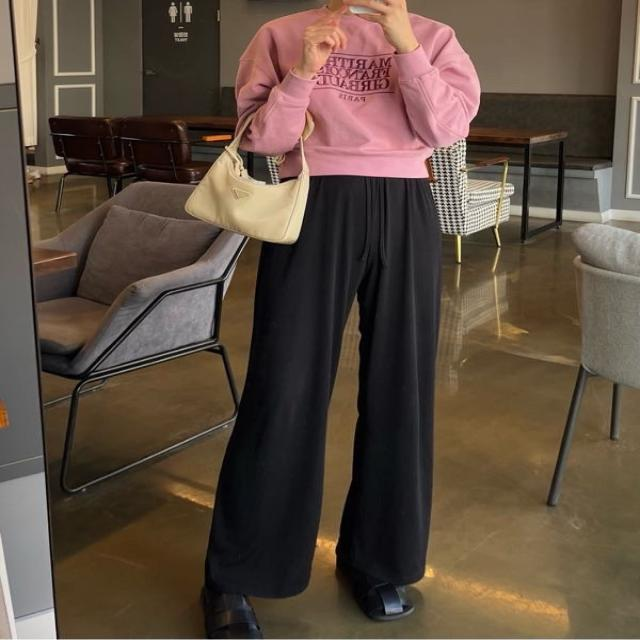mtm: (234, 0, 485, 175)
slacks: (206, 174, 439, 610)
